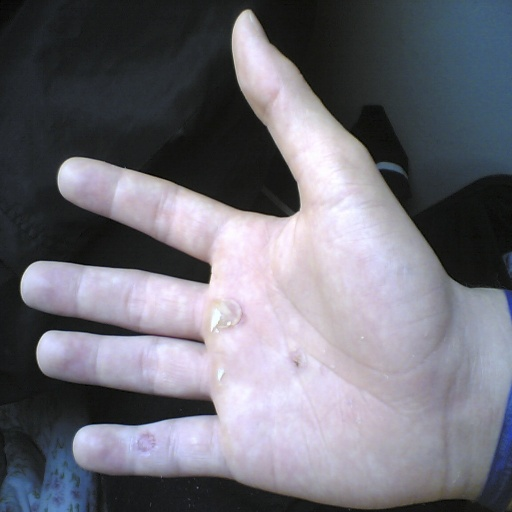hand: (18, 9, 467, 507)
